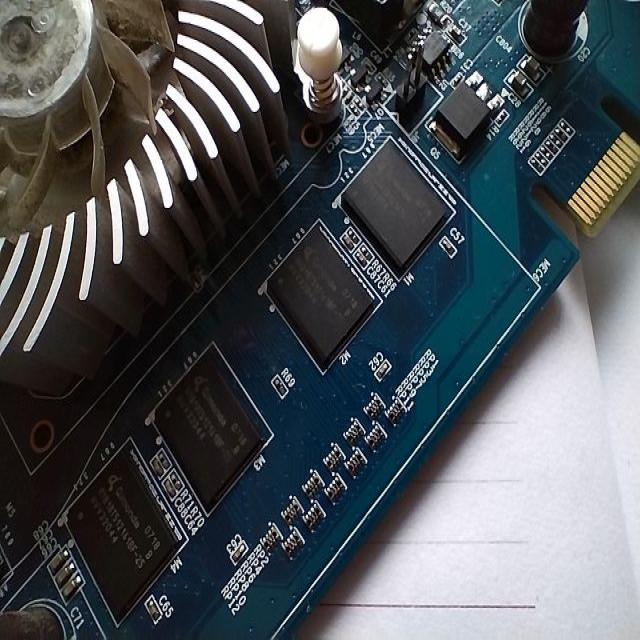capacitor: (56, 567, 88, 611), (142, 588, 171, 630), (41, 540, 73, 576), (373, 354, 393, 386)
resistor: (268, 370, 296, 403)
